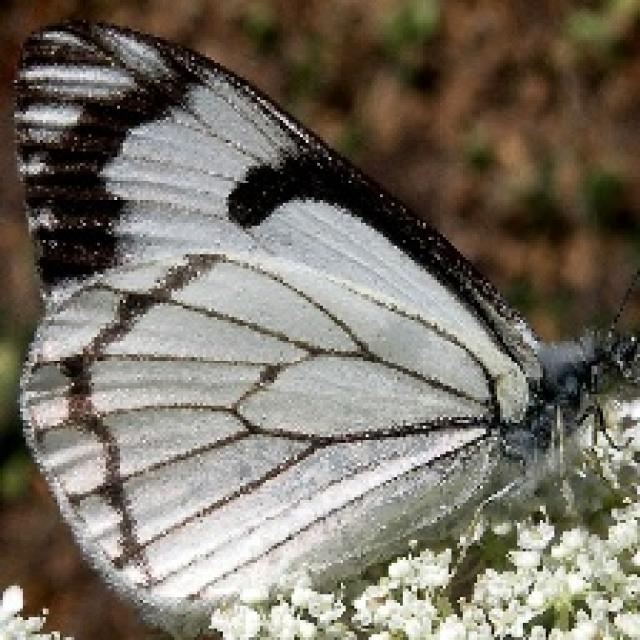butterfly: (9, 14, 637, 637)
